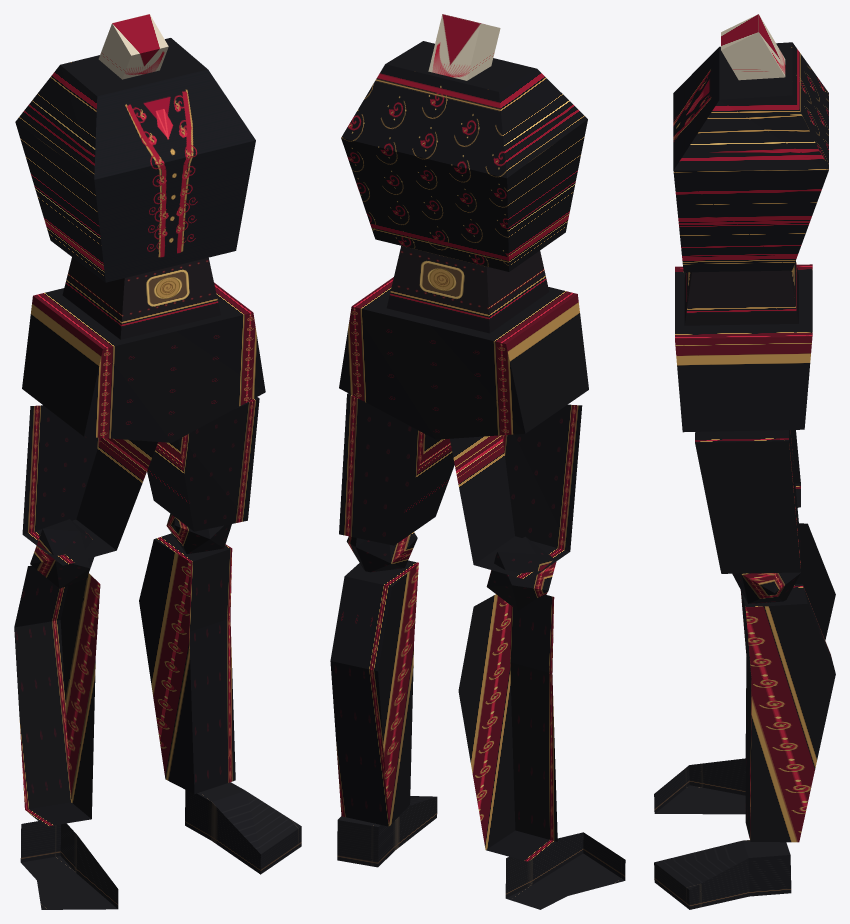
File: Fermin_Cuerpo.obj
The picture shows the model from 3 angles, left to right: view 1: azimuth 30°, elevation 25°; view 2: azimuth 150°, elevation 25°; view 3: azimuth 270°, elevation 25°; orthographic projection. The views are drawn at different scales.
Visible parts, largest first — view 1: Cube_002_color_torso, Cube_004_color_pants, Cube_006_color_pants, Cube_017_color_pants, Cube_002_color_fabric, Cube_016_color_pants, Cube_005_color_pants, Cube_003_color_belt, Cube_007_color_boots, Cube_018_color_boots, Cube_001_color_scarf, Icosphere_005_color_pants (+1 smaller); view 2: Cube_002_color_fabric, Cube_004_color_pants, Cube_017_color_pants, Cube_006_color_pants, Cube_016_color_pants, Cube_005_color_pants, Cube_003_color_belt, Cube_018_color_boots, Cube_007_color_boots, Cube_001_color_scarf, Icosphere_005_color_pants, Icosphere_color_pants; view 3: Cube_002_color_fabric, Cube_006_color_pants, Cube_004_color_pants, Cube_005_color_pants, Cube_007_color_boots, Cube_003_color_belt, Cube_018_color_boots, Cube_002_color_torso, Cube_001_color_scarf, Cube_017_color_pants, Icosphere_color_pants, Cube_016_color_pants.
Boxes of the visible parts, x1,y1,x2,y2 form: Cube_002_color_torso: (94, 69, 255, 282); Cube_004_color_pants: (22, 282, 265, 442); Cube_006_color_pants: (139, 533, 235, 794); Cube_017_color_pants: (14, 565, 100, 826); Cube_002_color_fabric: (15, 38, 207, 282); Cube_016_color_pants: (22, 405, 157, 565); Cube_005_color_pants: (147, 397, 259, 531); Cube_003_color_belt: (62, 257, 220, 339); Cube_007_color_boots: (185, 782, 301, 874); Cube_018_color_boots: (20, 821, 118, 909); Cube_001_color_scarf: (98, 14, 168, 79); Icosphere_005_color_pants: (30, 519, 94, 588); Cube_002_color_fabric: (341, 41, 587, 271); Cube_004_color_pants: (339, 277, 588, 439); Cube_017_color_pants: (458, 594, 557, 861); Cube_006_color_pants: (330, 560, 418, 826); Cube_016_color_pants: (450, 404, 582, 580); Cube_005_color_pants: (339, 393, 454, 545); Cube_003_color_belt: (386, 246, 549, 333); Cube_018_color_boots: (505, 832, 625, 909); Cube_007_color_boots: (337, 796, 437, 867); Cube_001_color_scarf: (428, 14, 500, 80); Icosphere_005_color_pants: (486, 536, 556, 610); Icosphere_color_pants: (346, 532, 417, 572); Cube_002_color_fabric: (673, 42, 828, 272); Cube_006_color_pants: (740, 584, 835, 842); Cube_004_color_pants: (675, 264, 812, 432); Cube_005_color_pants: (695, 430, 800, 573); Cube_007_color_boots: (654, 840, 791, 909); Cube_003_color_belt: (684, 261, 798, 325); Cube_018_color_boots: (654, 758, 745, 814); Cube_002_color_torso: (673, 47, 719, 170); Cube_001_color_scarf: (721, 14, 785, 80); Cube_017_color_pants: (745, 523, 835, 772); Icosphere_color_pants: (732, 572, 800, 603); Cube_016_color_pants: (790, 430, 800, 507).
Bounding box in the file's own units: 2.55 × 7.85 × 1.57.
